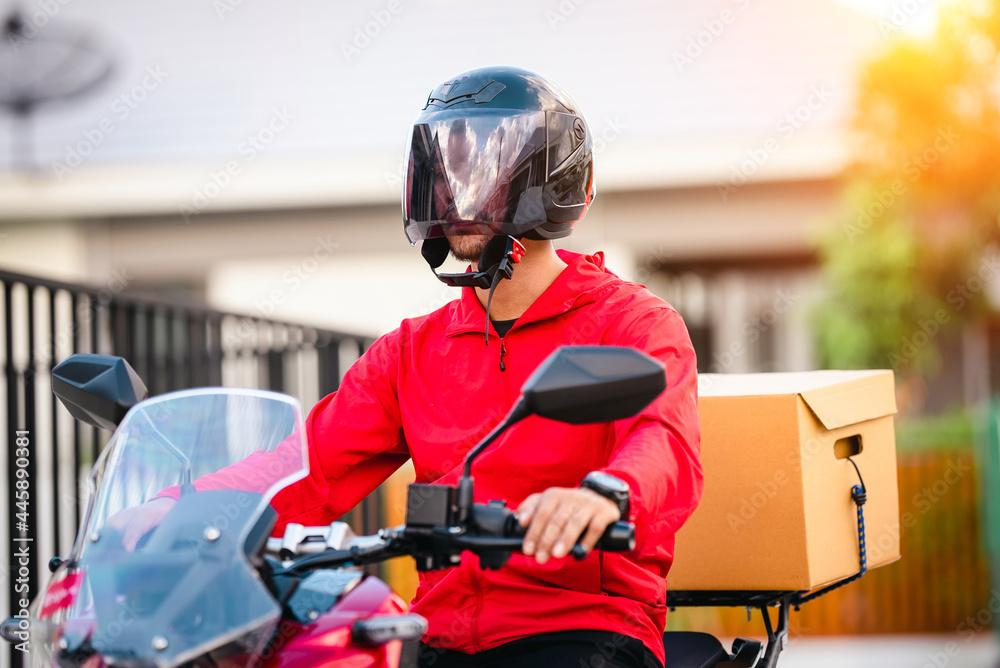helmet: (400, 64, 597, 291)
